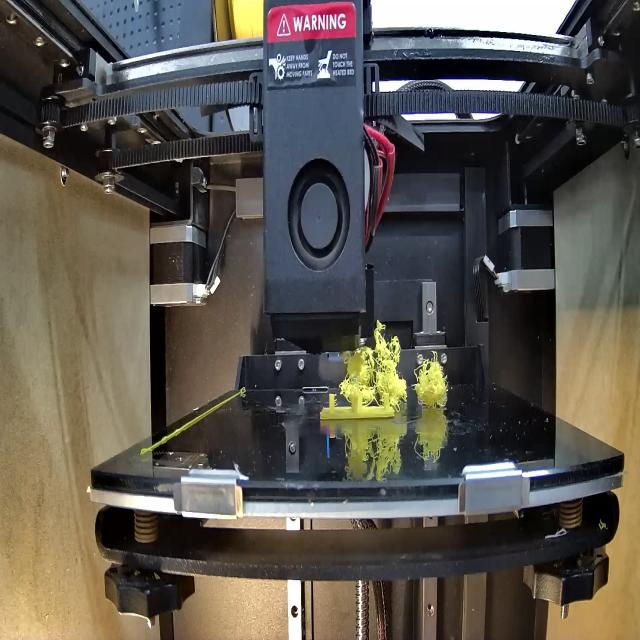spaghetti: (348, 327, 408, 400), (413, 354, 448, 404)
